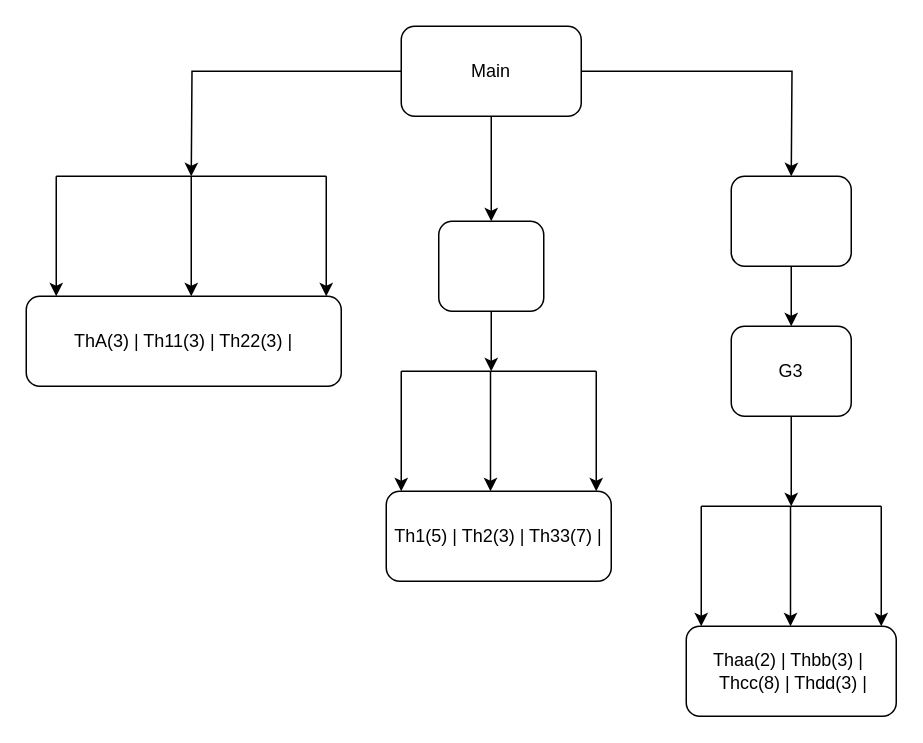
This 923x743 diagram has some shape labels left out. The centre of each missing label's shape, as x and y in pixels:
"G1" goes at point 790,220.
"G2" goes at point 490,265.
